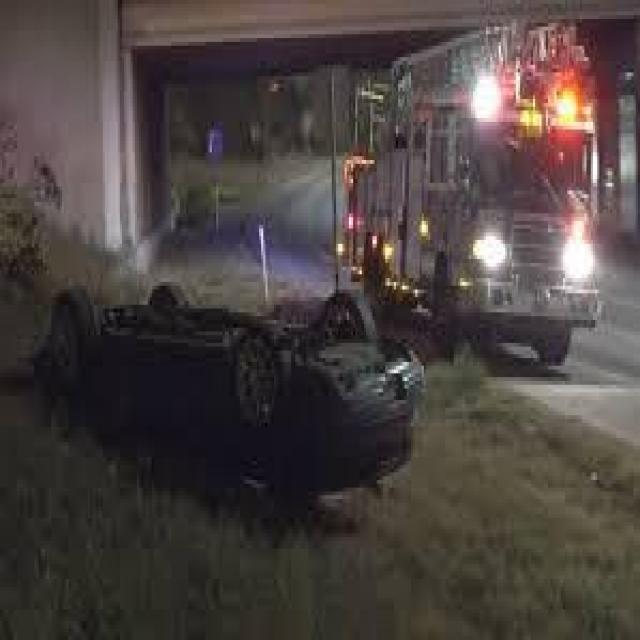severe: (44, 270, 427, 503)
